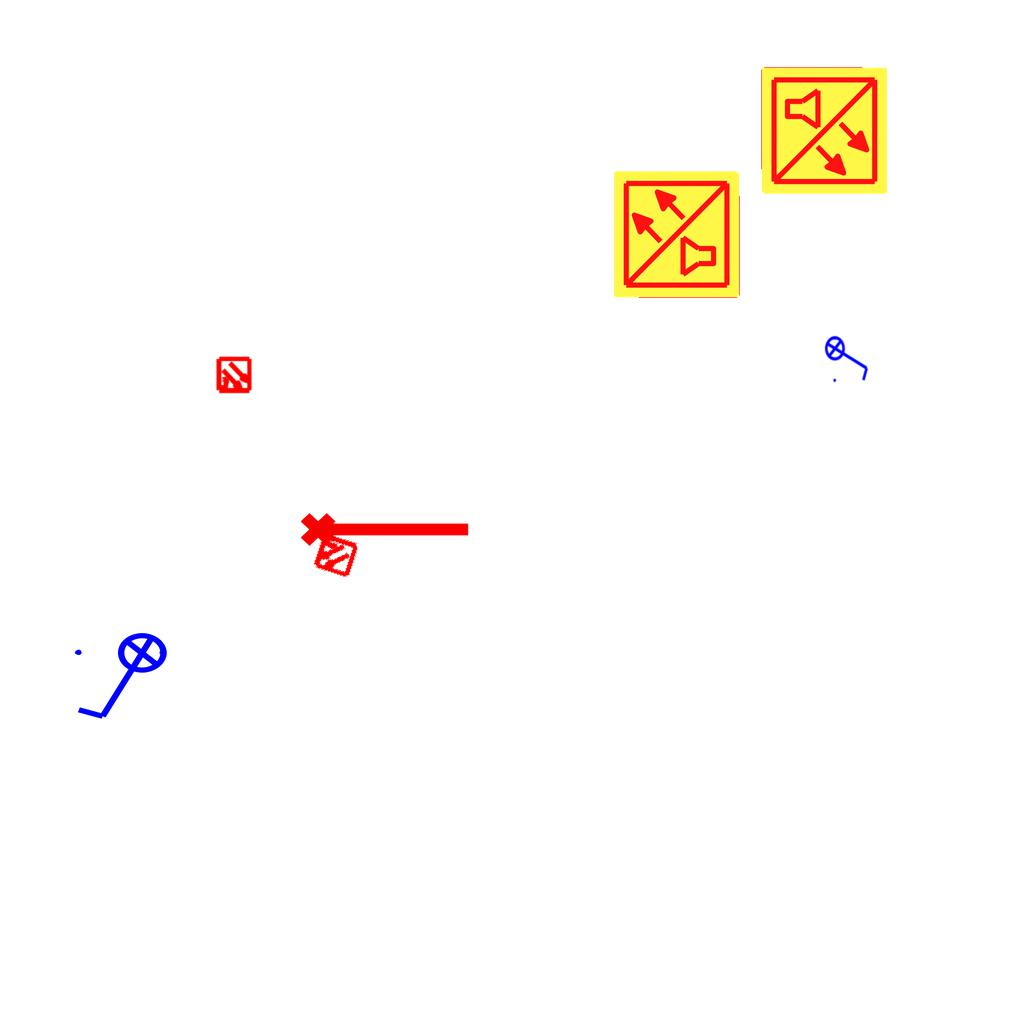ASR_Ansaugoeffnung: (298, 504, 474, 550)
Ausschalter_beleuchtet: (69, 631, 181, 727), (824, 329, 872, 385)
OKW_Multisensormelder_(Kombination_optischer_Rauch-Kahlenmonoxid_Waerme-Melder): (611, 168, 743, 300), (758, 65, 890, 197)
OT_Multisensormelder_(Kombination_RMO_WMD): (299, 519, 371, 591), (206, 348, 262, 404)
